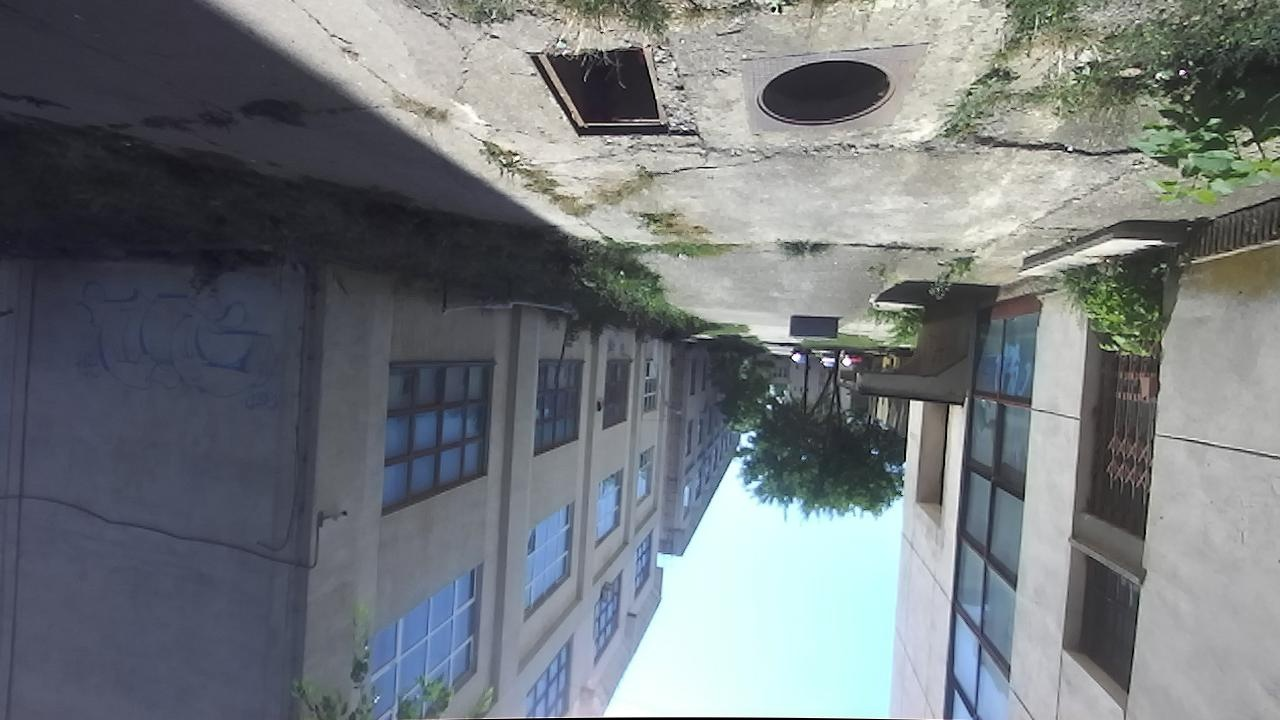drain: (520, 45, 671, 142), (753, 56, 901, 132)
